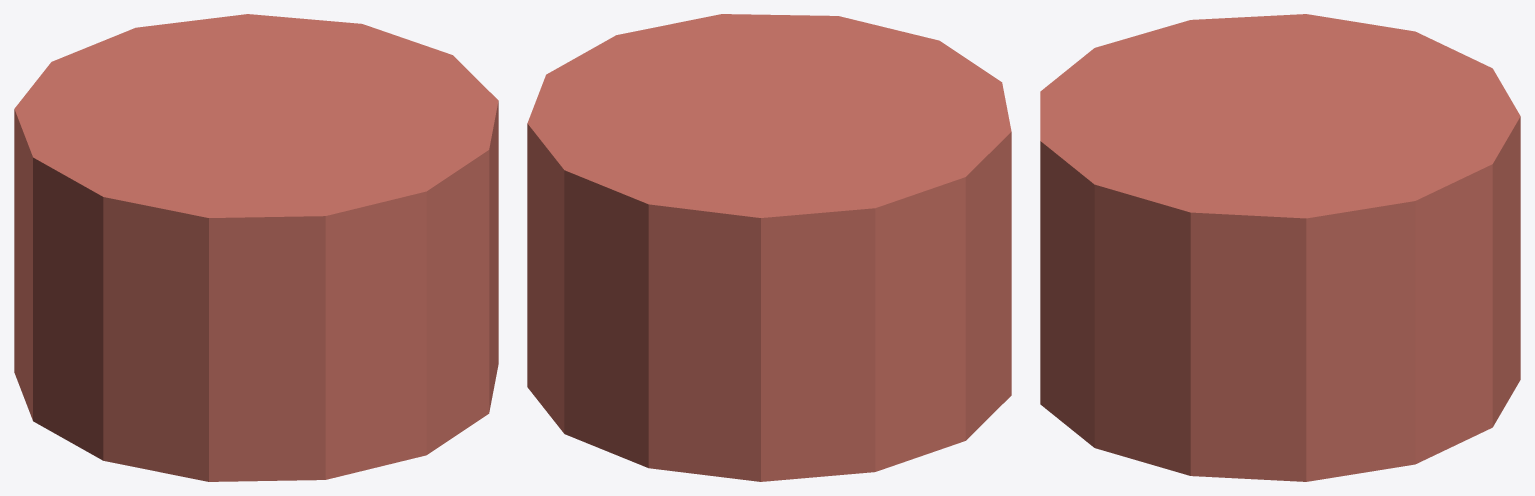
File: OnionCollider.fbx
The picture shows the model from 3 angles, left to right: view 1: azimuth 30°, elevation 25°; view 2: azimuth 150°, elevation 25°; view 3: azimuth 270°, elevation 25°; orthographic projection.
Visible parts, largest first — view 1: Sphere.000; view 2: Sphere.000; view 3: Sphere.000.
Boxes of the visible parts, x1,y1,x2,y2 form: Sphere.000: [14, 14, 498, 481]; Sphere.000: [527, 14, 1011, 481]; Sphere.000: [1040, 14, 1520, 481].
Size of the model in its own units: 220 by 132 by 218.
